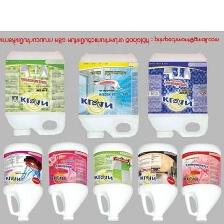cleaning_solution: (75, 50, 141, 140), (145, 50, 211, 139), (2, 49, 67, 137), (178, 140, 224, 223), (134, 140, 180, 222), (90, 141, 136, 222), (45, 139, 89, 222), (2, 141, 43, 222)
